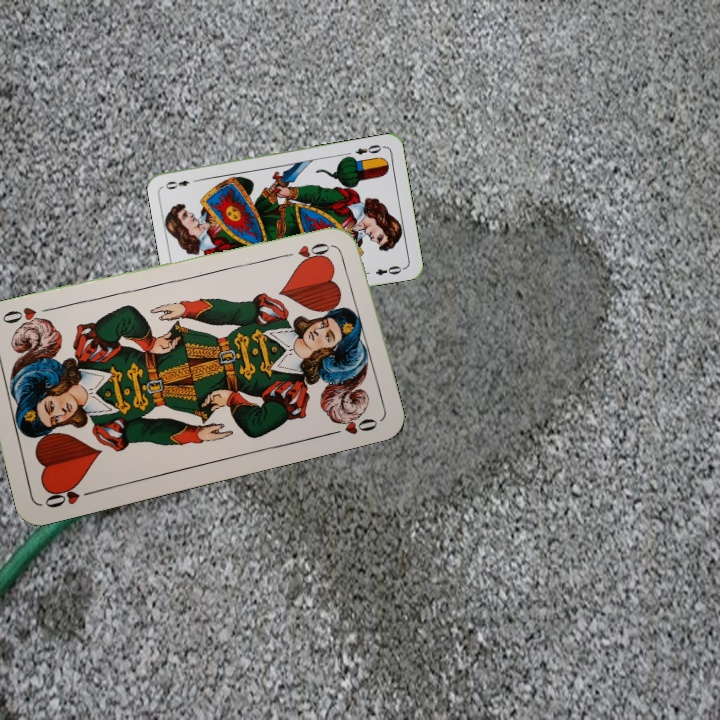EO: (351, 140, 387, 157)
HO: (40, 480, 98, 511), (277, 238, 336, 261)
